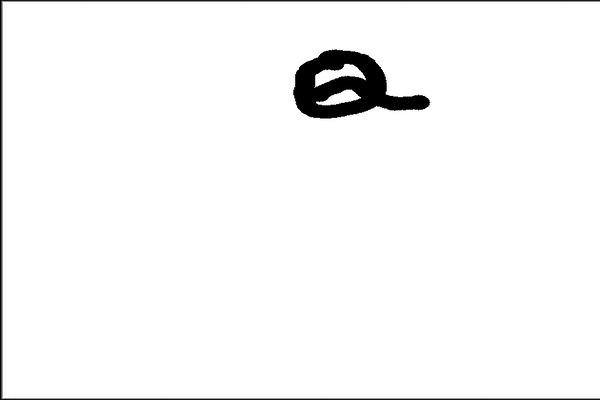Q: (282, 39, 436, 123)
